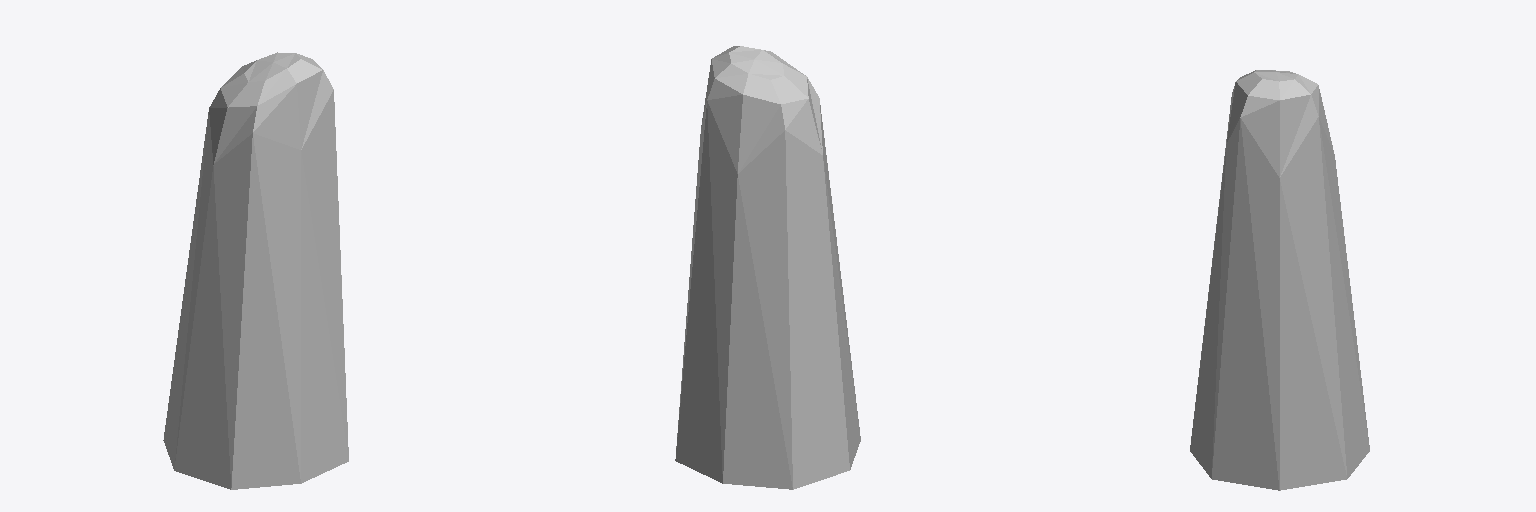
The model's file is mountain.obj.
3 renders of one model, left to right at view 1: azimuth 30°, elevation 25°; view 2: azimuth 150°, elevation 25°; view 3: azimuth 270°, elevation 25°, orthographic.
Visible parts, largest first — view 1: Cube.003_Cube.002; view 2: Cube.003_Cube.002; view 3: Cube.003_Cube.002.
Boxes of the visible parts, x1=… form: Cube.003_Cube.002: x1=163, y1=52, x2=348, y2=489; Cube.003_Cube.002: x1=675, y1=46, x2=860, y2=489; Cube.003_Cube.002: x1=1190, y1=70, x2=1369, y2=490.
Size of the model in its own units: 63.05 by 143 by 60.1.